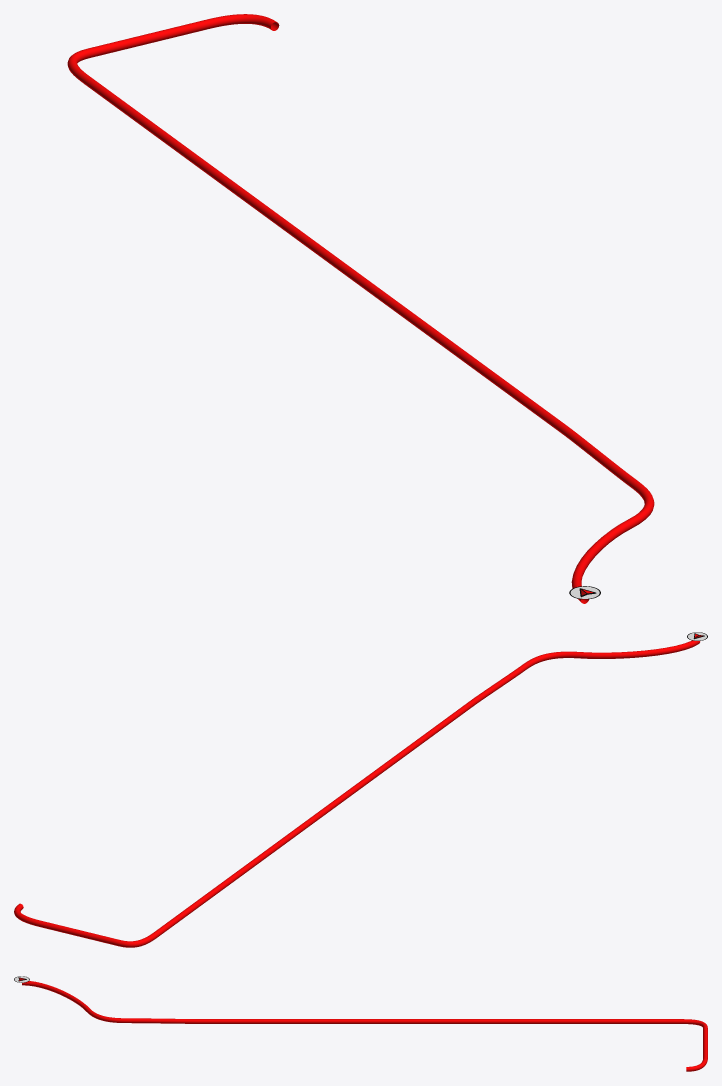
The model's file is route_63b75328-e1c3-4ca3-98da-310bdd6cbff8_de_single.glb.
The picture shows the model from 3 angles, top to bottom: view 1: azimuth 30°, elevation 25°; view 2: azimuth 150°, elevation 25°; view 3: azimuth 270°, elevation 25°; orthographic projection. The views are drawn at different scales.
Visible parts, largest first — view 1: B7, Abteil 3; view 2: B7, Abteil 3; view 3: B7, Abteil 3.
Part boxes in pixels (<box>): B7, Abteil 3: <box>67,14,654,603</box>; B7, Abteil 3: <box>14,640,700,947</box>; B7, Abteil 3: <box>22,981,707,1071</box>.
Bounding box in the file's own units: 3.52 × 0.1062 × 11.35.
